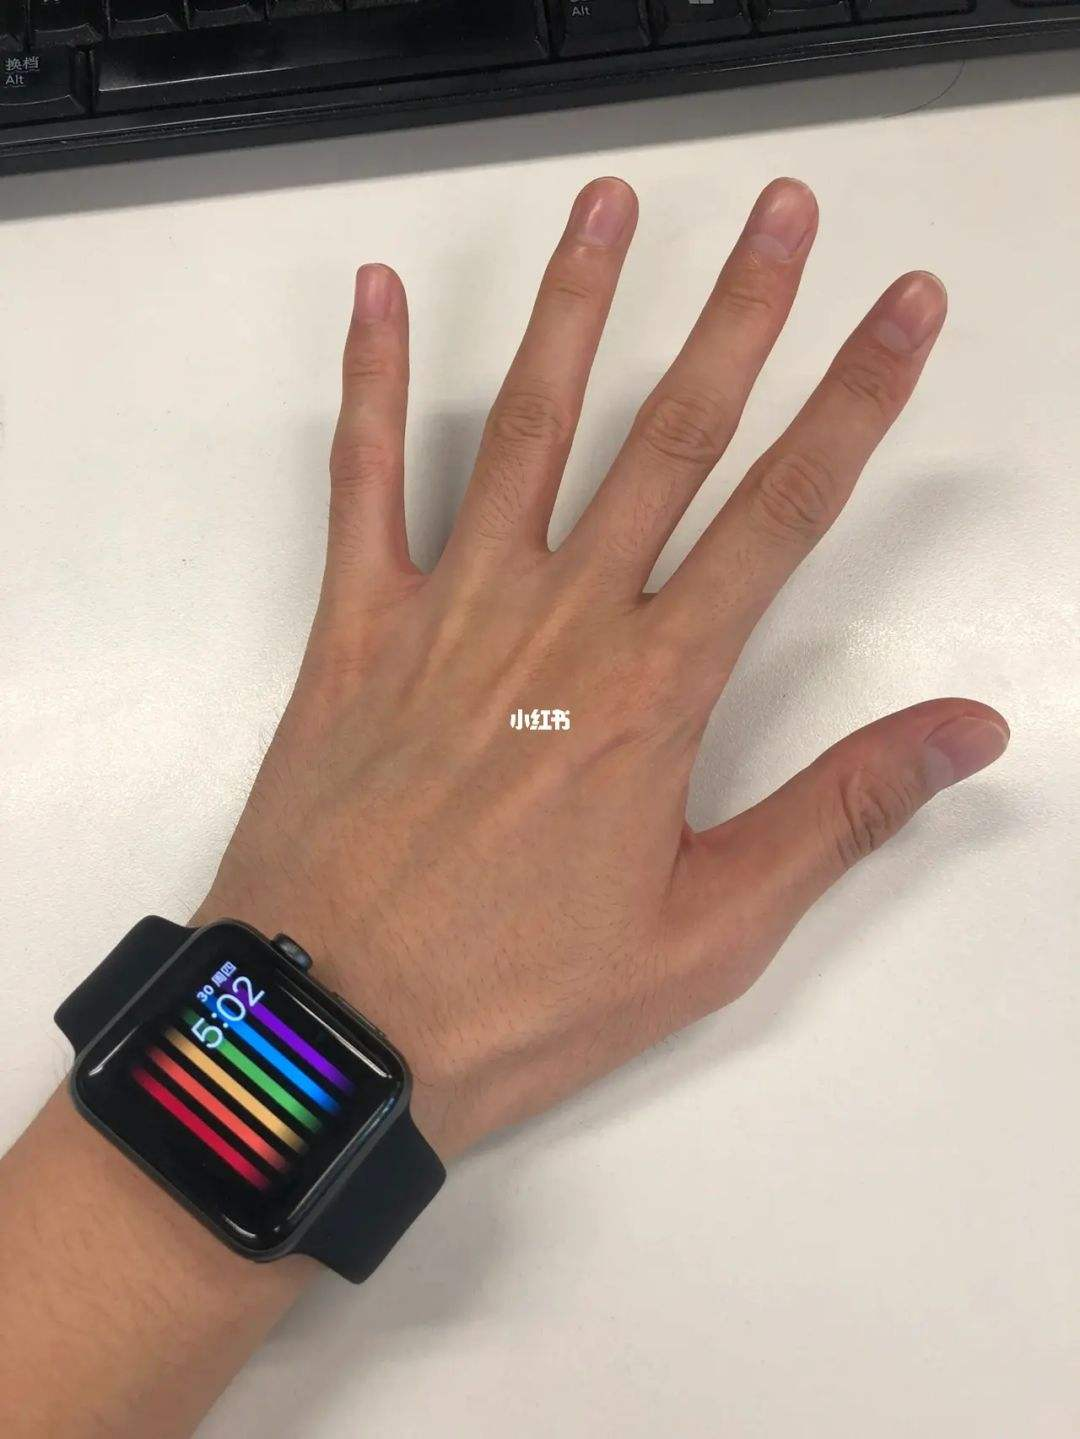no-phone: (189, 156, 1018, 1109)
